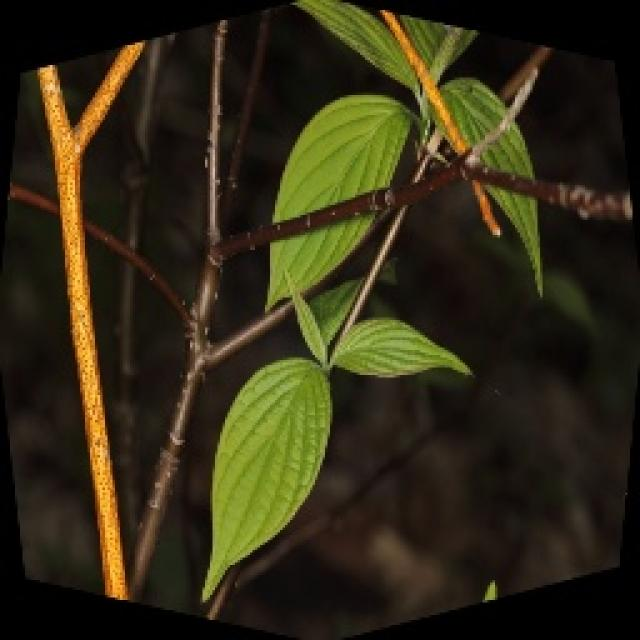Golden_canker: (33, 38, 145, 600), (373, 5, 505, 237)
